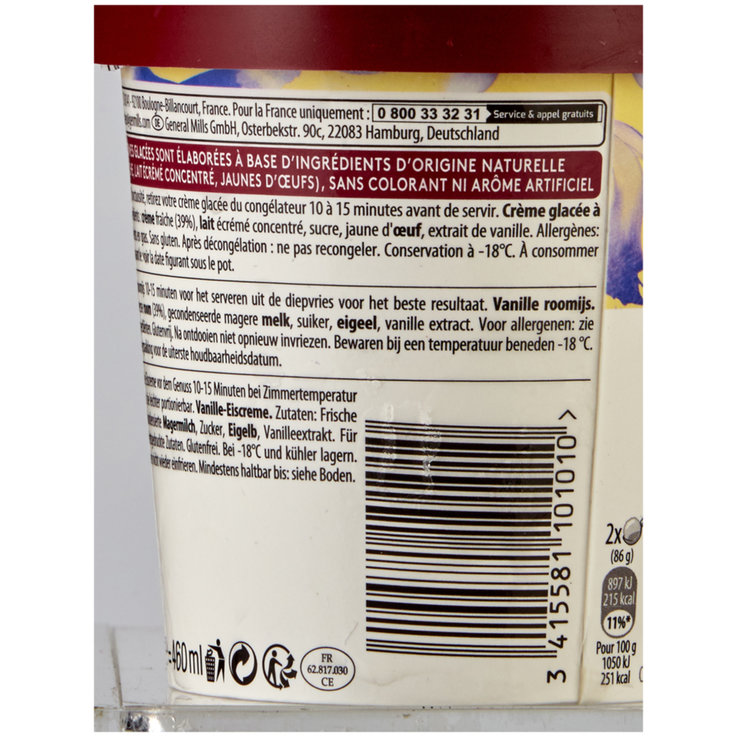Barcode: (361, 414, 574, 659)
